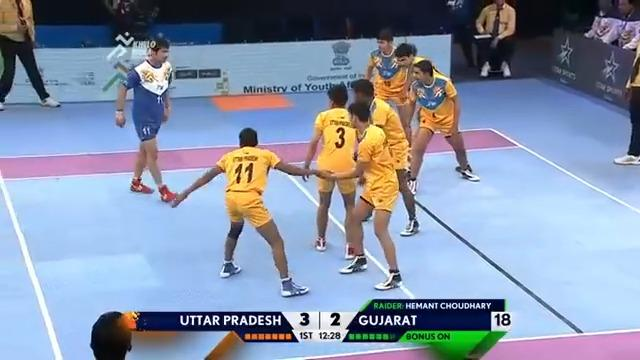Player: (170, 126, 334, 297), (322, 101, 404, 290), (347, 78, 420, 236), (403, 58, 480, 195), (301, 83, 359, 258), (364, 28, 414, 143)
Raider: (113, 33, 178, 202)
referee: (0, 2, 61, 112), (612, 38, 639, 165), (474, 0, 516, 78)
